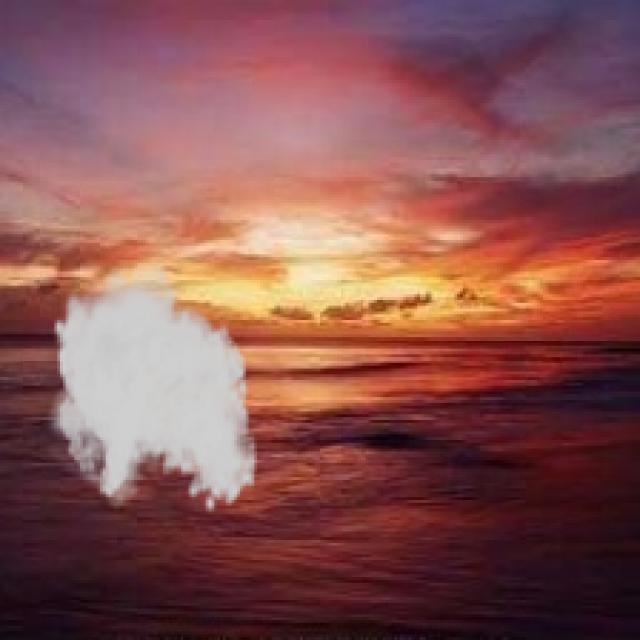Smoke: (40, 257, 260, 514)
